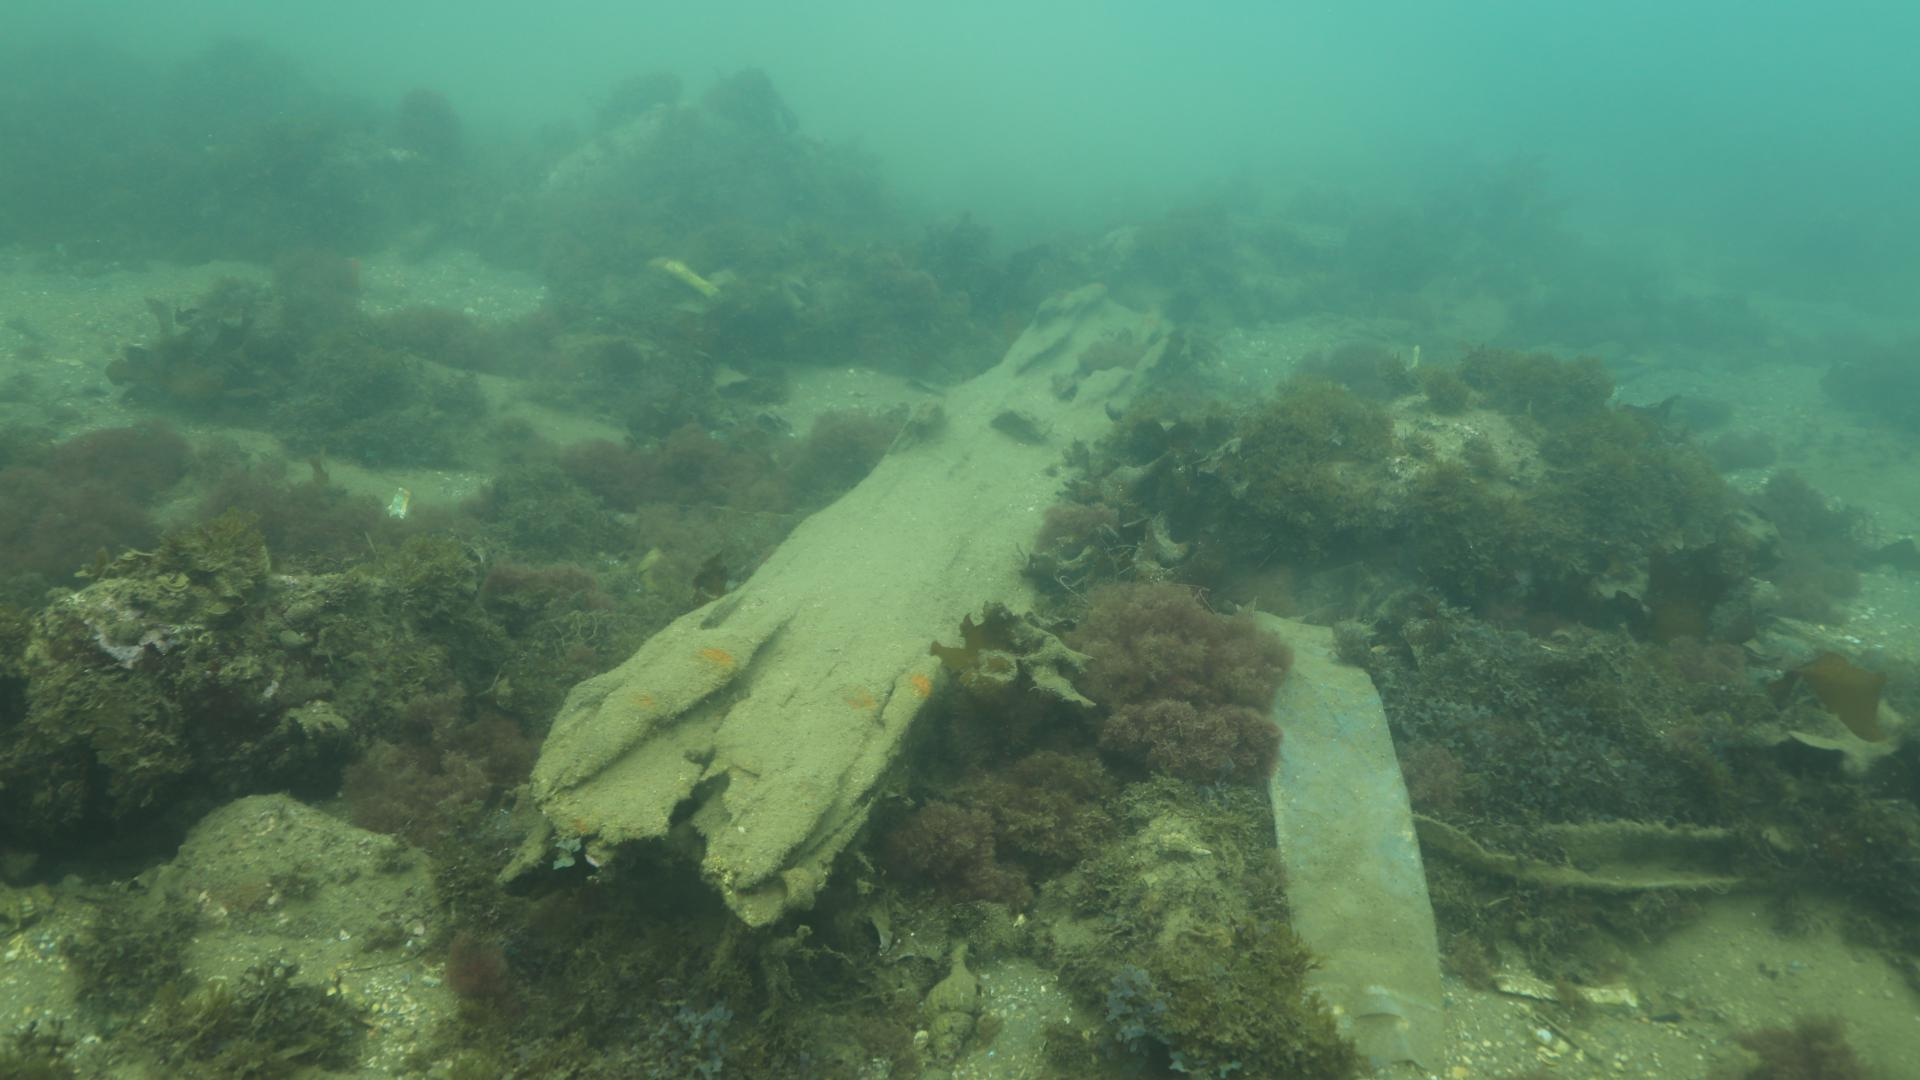wood: (491, 281, 1174, 938)
